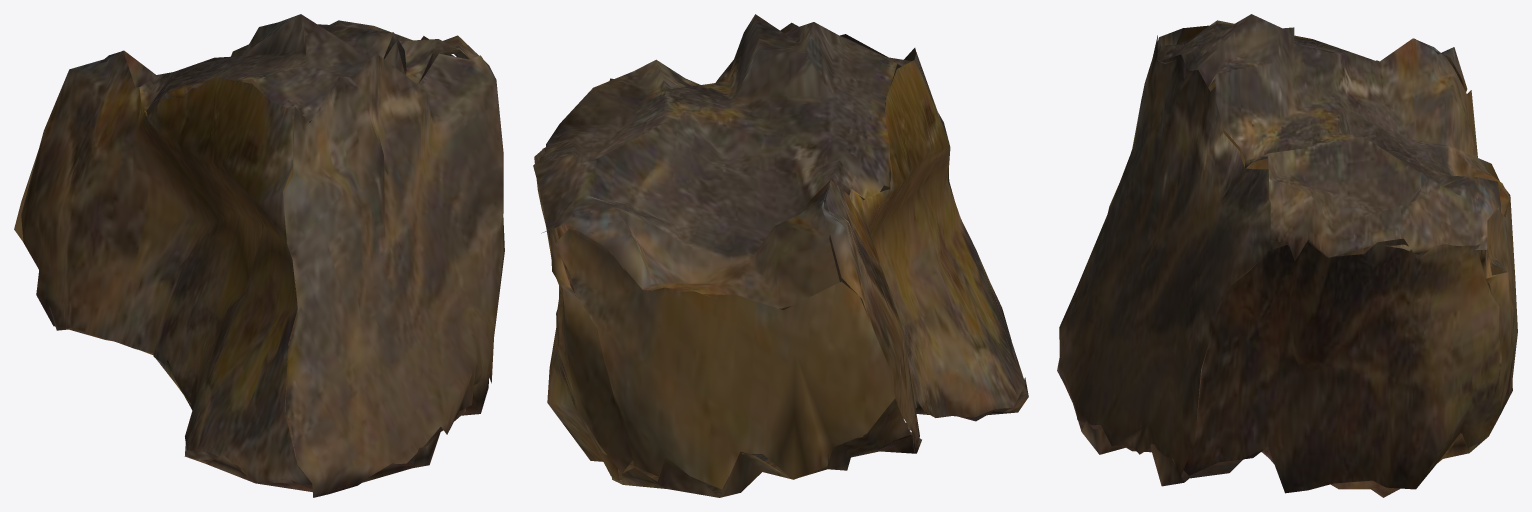
The model's file is rock_09.glb.
3 views of the same model, side by side, from view 1: azimuth 30°, elevation 25°; view 2: azimuth 150°, elevation 25°; view 3: azimuth 270°, elevation 25° (orthographic). The views are drawn at different scales.
Parts seen in each view (by area): view 1: rock_09_LOD0; view 2: rock_09_LOD0; view 3: rock_09_LOD0.
Part boxes in pixels (x1=…): rock_09_LOD0: x1=14, y1=14, x2=504, y2=497; rock_09_LOD0: x1=533, y1=14, x2=1028, y2=497; rock_09_LOD0: x1=1057, y1=14, x2=1517, y2=497.
Size of the model in its own units: 1 by 1 by 1.
Materials: 1 (1 with a texture image).
